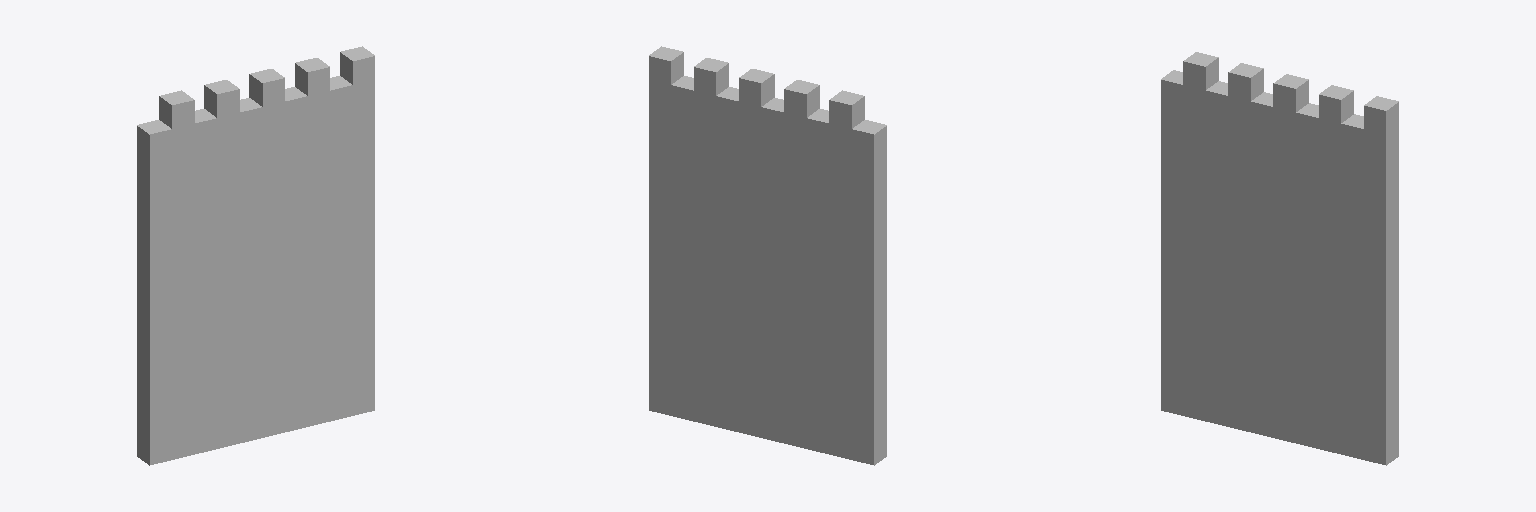
File: Wall1.obj
The picture shows the model from 3 angles: view 1: azimuth 30°, elevation 25°; view 2: azimuth 150°, elevation 25°; view 3: azimuth 330°, elevation 25°; orthographic projection.
Visible parts, largest first — view 1: object 1; view 2: object 1; view 3: object 1.
Boxes of the visible parts, x1,y1,x2,y2 form: object 1: [137, 46, 374, 465]; object 1: [649, 46, 886, 465]; object 1: [1161, 52, 1398, 465].
Size of the model in its own units: 2 by 3 by 0.2.